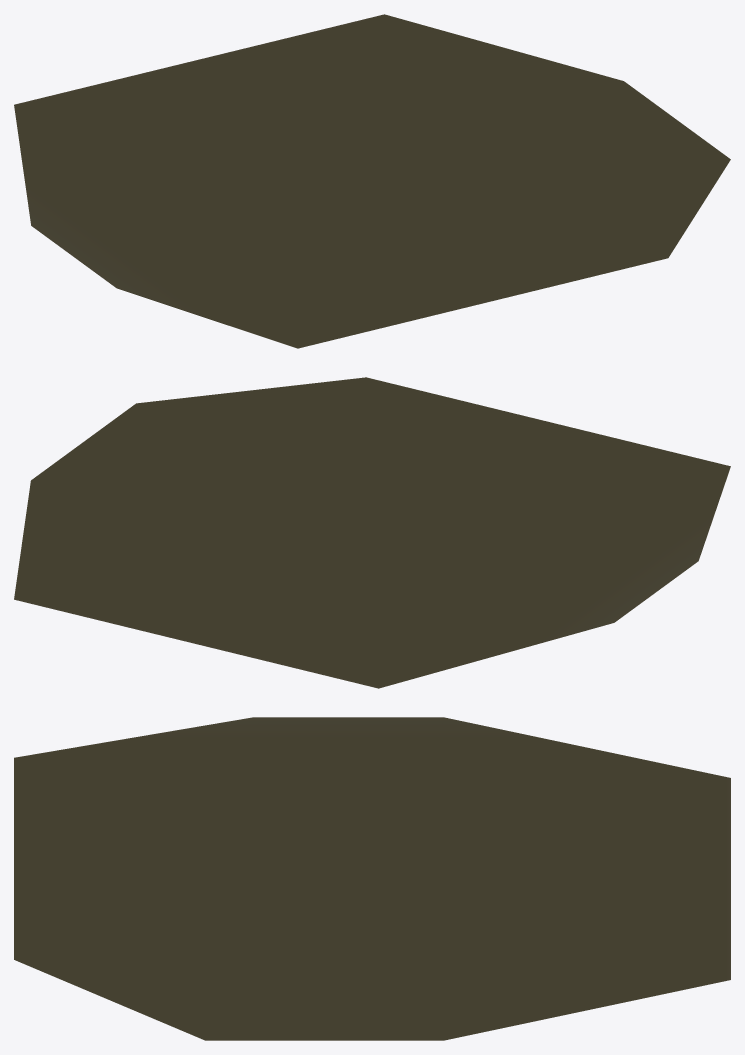
The model's file is SM_BlackAlder_Field_05_PP_LOD6.gltf.
3 views of the same model, one above another, from view 1: azimuth 30°, elevation 25°; view 2: azimuth 150°, elevation 25°; view 3: azimuth 270°, elevation 25° (orthographic). The views are drawn at different scales.
Visible parts, largest first — view 1: SM_BlackAlder_Field_05_PP; view 2: SM_BlackAlder_Field_05_PP; view 3: SM_BlackAlder_Field_05_PP.
Part boxes in pixels (x1,y1,x2,y2): SM_BlackAlder_Field_05_PP: [14, 14, 730, 348]; SM_BlackAlder_Field_05_PP: [14, 377, 730, 688]; SM_BlackAlder_Field_05_PP: [14, 717, 730, 1040].
Size of the model in its own units: 0.9279 by 0 by 0.8699.
1 material, 1 textured.
